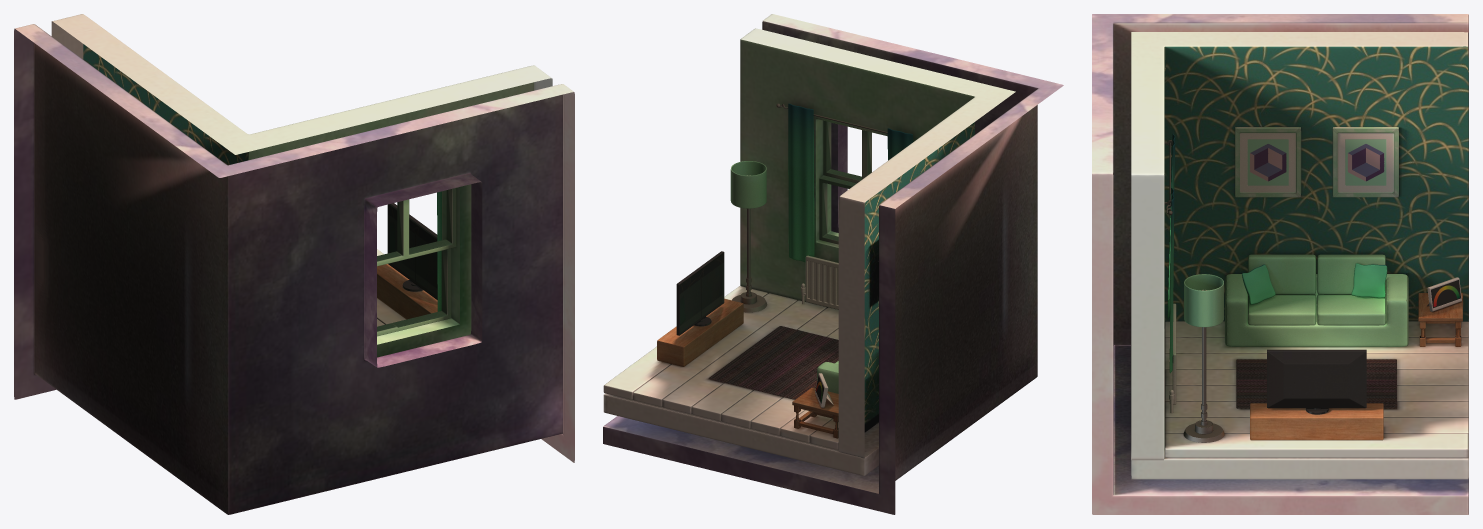
Rendered from homera_room.glb.
3 renders of one model, left to right at view 1: azimuth 30°, elevation 25°; view 2: azimuth 150°, elevation 25°; view 3: azimuth 270°, elevation 25°, orthographic. The views are drawn at different scales.
Visible parts, largest first — view 1: outer_wall, room.1, tv, window_top, tv_stand, window_bottom; view 2: outer_wall, room.1, planks, floor_base, rug, curtain, tv, tv_stand, radiator, lamp_shade, table, window_top (+3 smaller); view 3: room.1, outer_wall, planks, sofa_cushions, floor_base, sofa, tv, picture_r, picture_l, tv_stand, rug, lamp_shade (+8 smaller).
Boxes of the visible parts, box(x1,y1,x2,y2) form: outer_wall: box(14, 24, 574, 514); room.1: box(51, 14, 552, 357); tv: box(387, 203, 437, 299); window_top: box(377, 188, 456, 266); tv_stand: box(377, 264, 437, 319); window_bottom: box(377, 239, 451, 336); outer_wall: box(603, 14, 1063, 514); room.1: box(740, 28, 1015, 458); planks: box(603, 286, 838, 450); floor_base: box(603, 393, 878, 475); rug: box(708, 326, 838, 399); curtain: box(788, 103, 814, 262); tv: box(676, 251, 724, 335); tv_stand: box(657, 298, 743, 366); radiator: box(801, 255, 838, 309); lamp_shade: box(730, 161, 766, 208); table: box(792, 387, 838, 438); window_top: box(823, 120, 871, 183); room.1: box(1131, 32, 1468, 460); outer_wall: box(1092, 14, 1468, 514); planks: box(1165, 321, 1468, 457); sofa_cushions: box(1248, 254, 1385, 325); floor_base: box(1131, 319, 1468, 479); sofa: box(1225, 274, 1408, 346); tv: box(1267, 349, 1366, 414); picture_r: box(1332, 127, 1398, 197); picture_l: box(1235, 127, 1301, 197); tv_stand: box(1250, 403, 1383, 440); rug: box(1236, 359, 1396, 408); lamp_shade: box(1184, 274, 1223, 327).
Size of the model in its own units: 200 by 200 by 200.
Materials: 24 (24 with a texture image).
